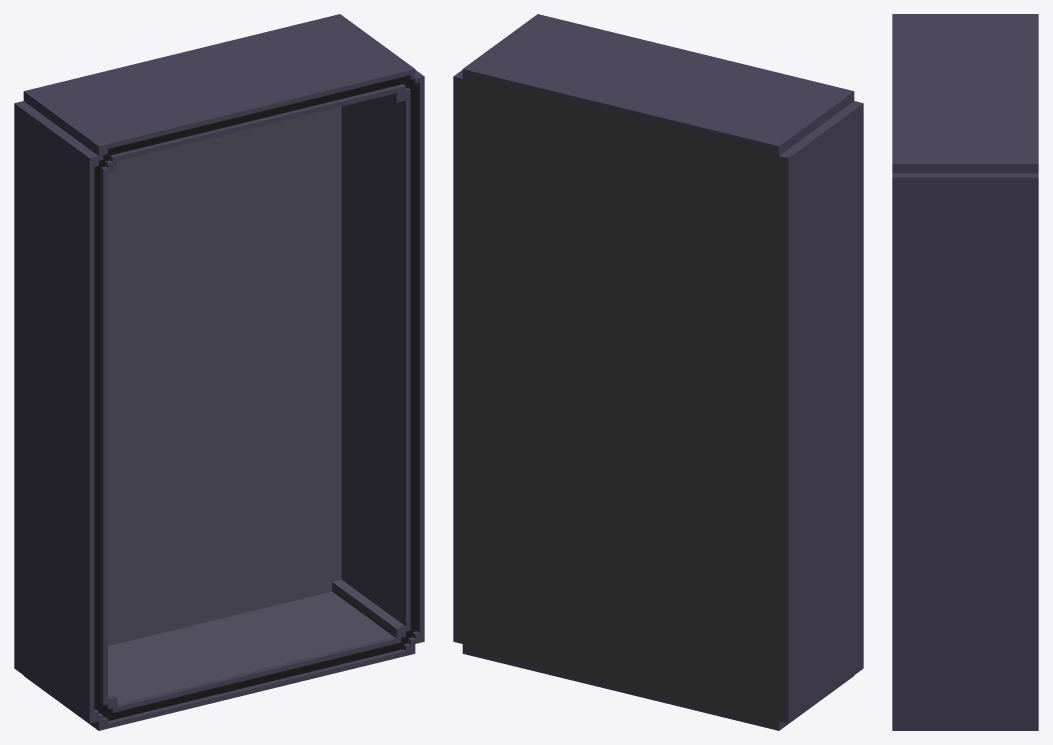
3 renders of one model, left to right at view 1: azimuth 30°, elevation 25°; view 2: azimuth 150°, elevation 25°; view 3: azimuth 270°, elevation 25°, orthographic. The views are drawn at different scales.
Visible parts, largest first — view 1: new_box_1; view 2: new_box_1; view 3: new_box_1.
Part boxes in pixels (x1,y1,x2,y2): new_box_1: (14,14,424,730); new_box_1: (453,14,863,730); new_box_1: (892,14,1038,730).
Size of the model in its own units: 7.2 by 12 by 2.8.
Materials: 1 (1 with a texture image).
